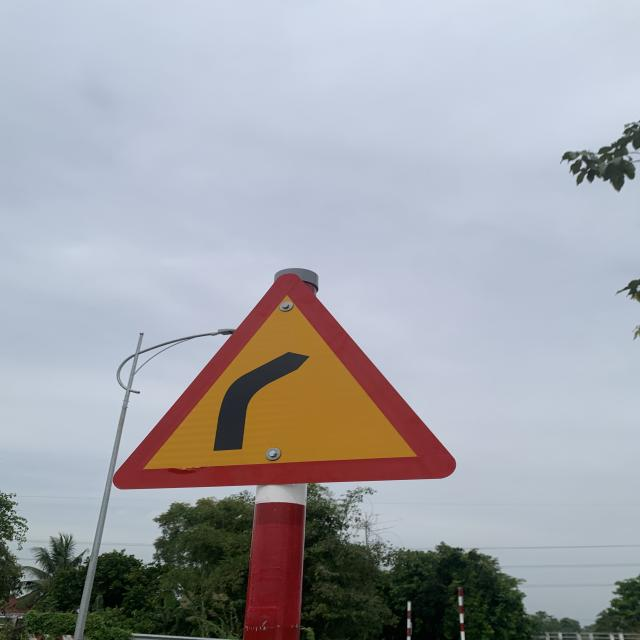Duong_Nguoi_Di_Bo_Cat_Ngang: (111, 273, 458, 493)
